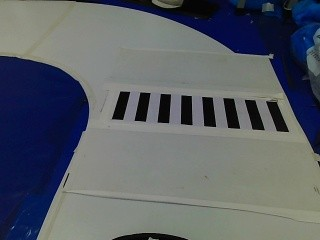crosswalk: (98, 83, 294, 136)
